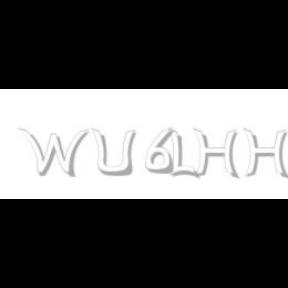6: (146, 128, 174, 176)
H: (193, 128, 239, 180), (242, 128, 288, 180)
L: (169, 128, 197, 180)
U: (90, 128, 136, 178)
W: (17, 128, 89, 178)
